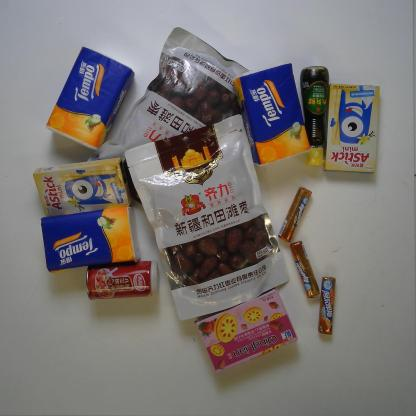Candy: (279, 186, 314, 242), (290, 239, 319, 299), (317, 275, 338, 335)
Canned Food: (83, 257, 161, 300)
Dessert: (192, 286, 296, 374), (30, 157, 135, 217), (324, 80, 382, 176)
Dried Food: (120, 112, 292, 319), (85, 24, 253, 204)
Seasoner: (299, 65, 332, 169)
Tissue: (46, 45, 136, 151), (232, 59, 309, 166), (38, 206, 142, 274)
